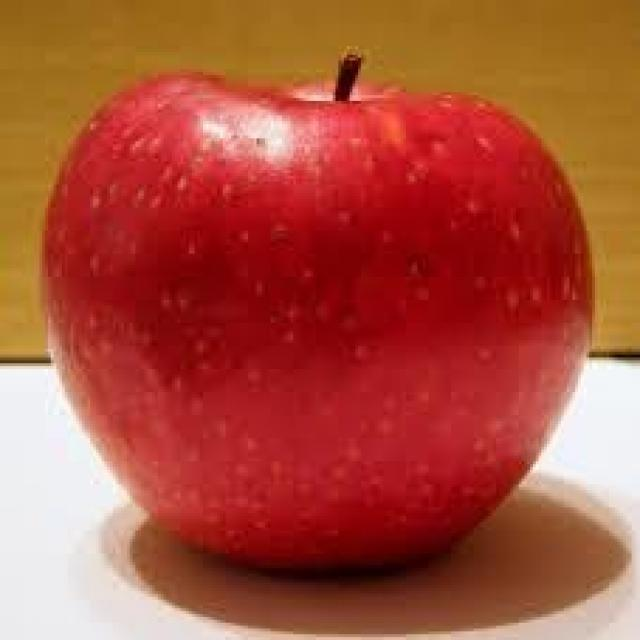apple: (40, 51, 594, 569)
